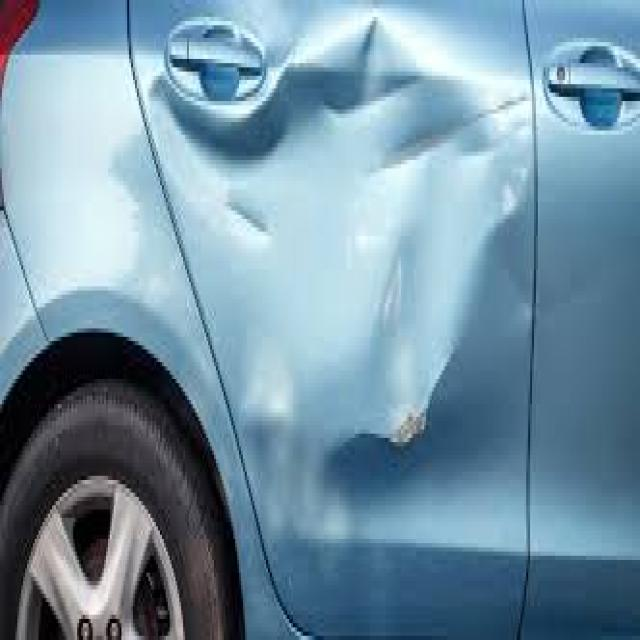minor: (199, 28, 574, 508)
